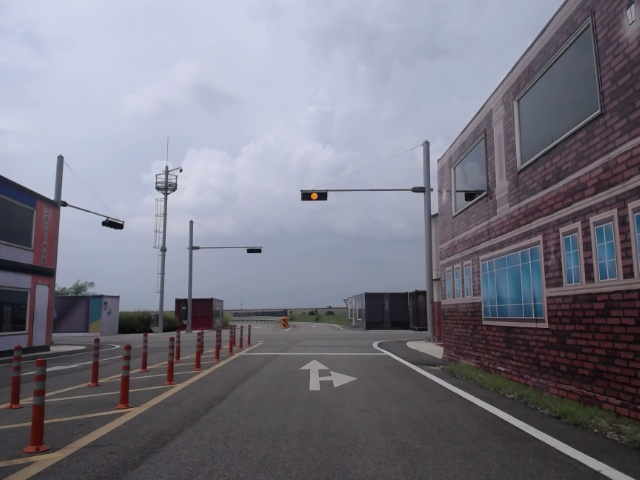orange_3: (301, 190, 327, 201)
